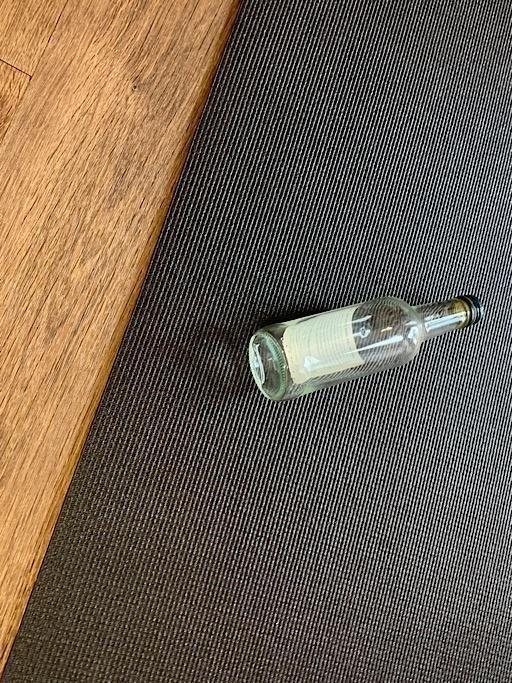bottle-glass: (247, 290, 486, 403)
